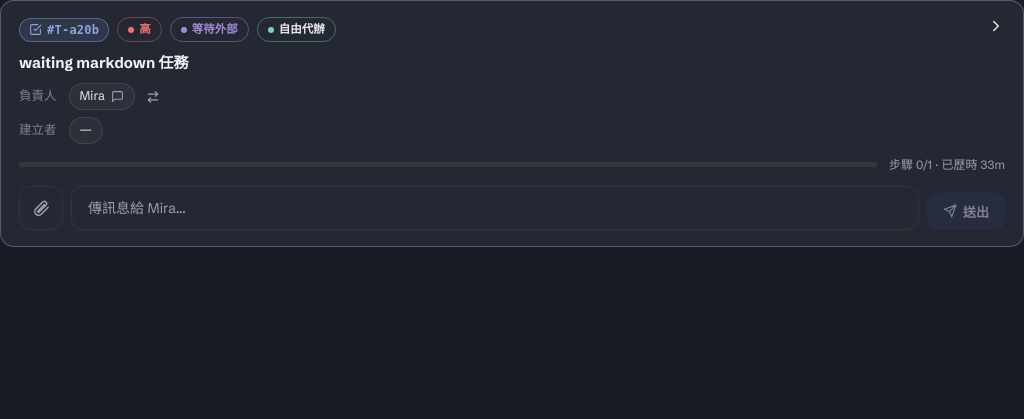
Test: step 等待外部 reason markdown render (T-a20b shapes, T-c514 surface) › keeps the i18n label OUT of the markdown container (the template must not be parsed)
Click the button with test id "task-card" at (512, 232), box [0,0,1023,247]
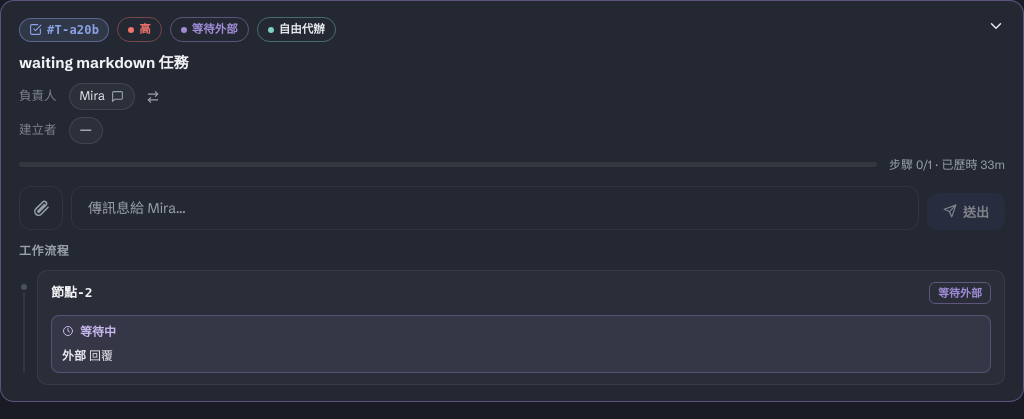
Check: the element with class "task-step__waiting-md" does not show "等待中"
Check: the element with test id "step-waiting-reason" shows "等待中", box [80,324,116,339]
Check: the text "外部" is shown, box [62,348,86,363]
